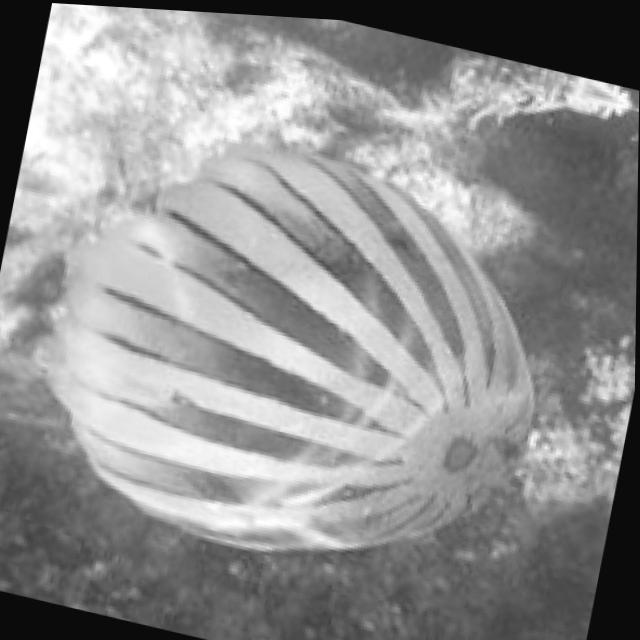Box-jellyfish: (18, 89, 579, 606)
